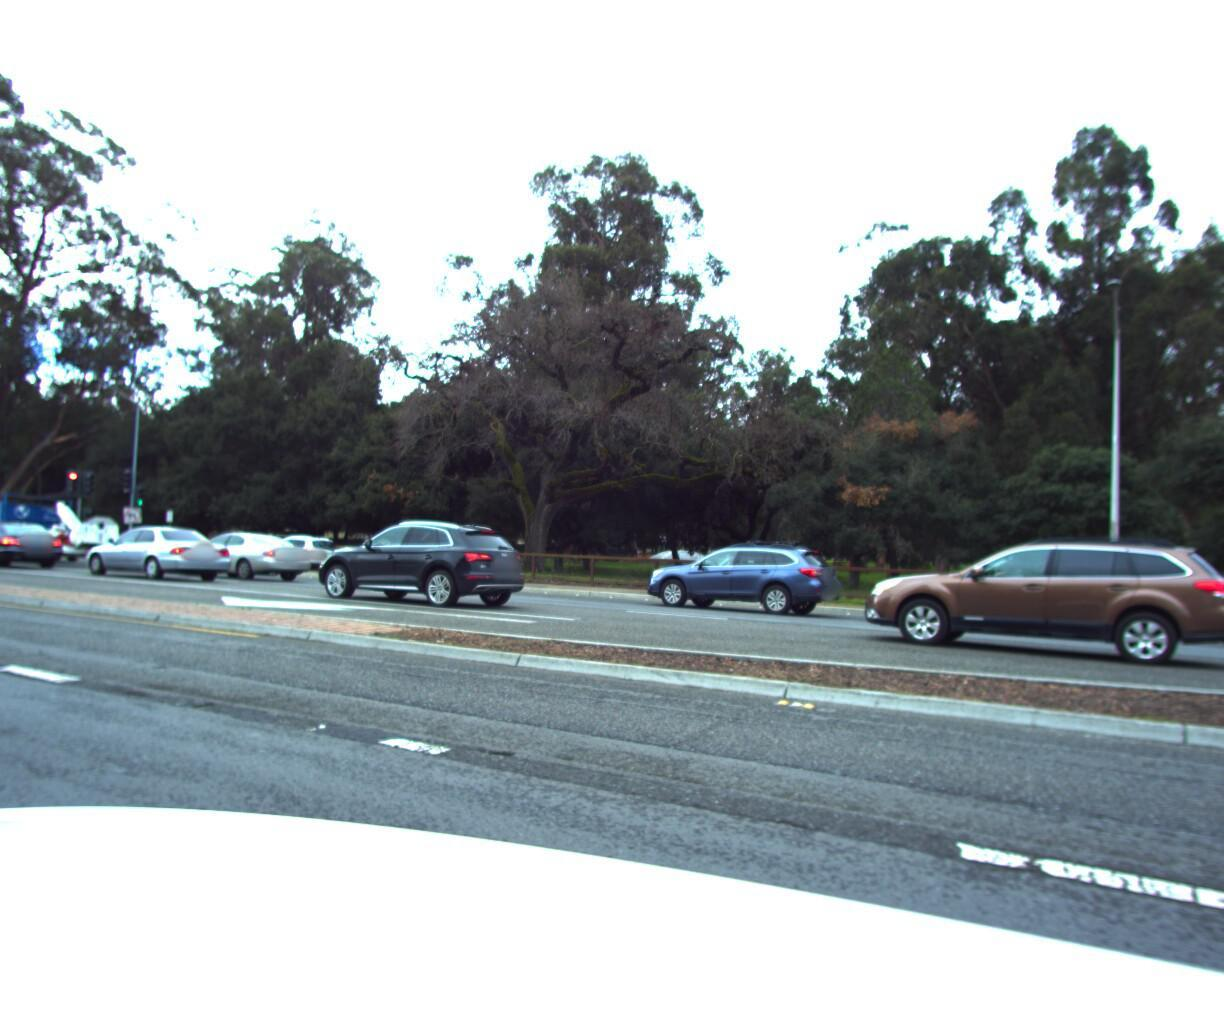car: (872, 518, 1224, 674), (307, 513, 540, 608), (638, 526, 846, 613), (69, 519, 235, 578), (169, 523, 319, 581), (251, 530, 353, 569)
